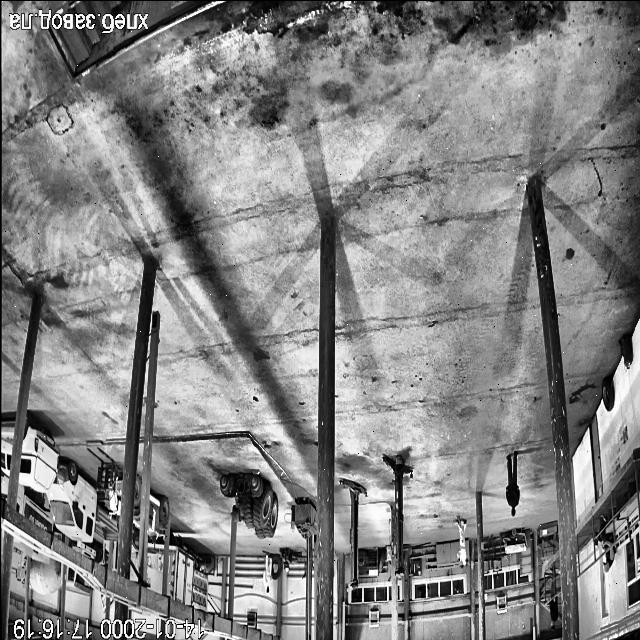car lift: (383, 455, 412, 576), (340, 479, 366, 587)
fire extinguisher: (619, 334, 632, 367)
mechanic: (595, 516, 615, 572), (506, 452, 520, 516), (548, 566, 558, 628), (456, 516, 466, 566), (263, 555, 271, 591)
truck: (47, 461, 116, 541), (166, 533, 207, 612), (20, 412, 60, 492), (16, 484, 52, 532), (98, 464, 122, 527), (30, 558, 64, 595), (144, 493, 169, 542), (146, 540, 164, 594), (14, 535, 47, 560), (131, 476, 141, 550), (66, 567, 92, 595), (0, 421, 13, 474), (76, 540, 104, 563), (0, 476, 8, 498), (16, 559, 24, 580), (2, 523, 4, 530), (132, 572, 134, 578), (166, 532, 167, 534)
